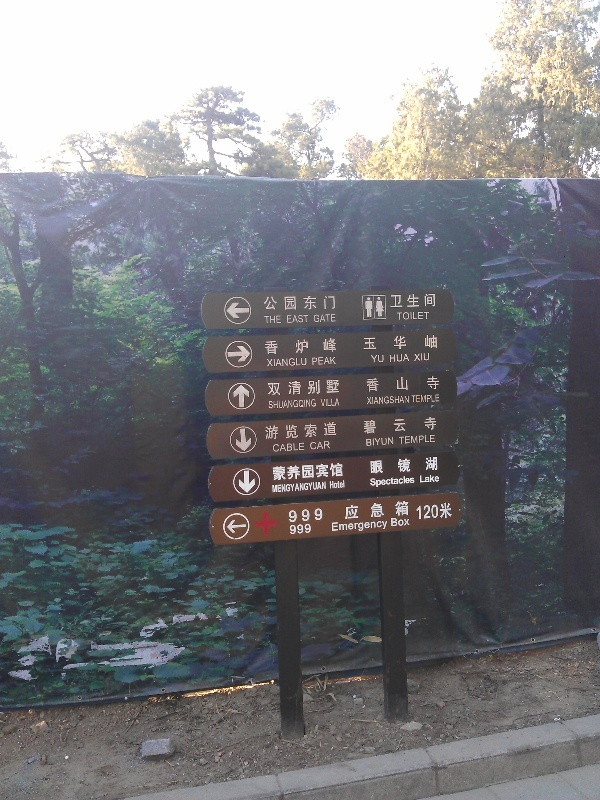text: (353, 500, 368, 521), (369, 500, 384, 521), (385, 500, 400, 521), (417, 501, 432, 522), (433, 501, 448, 522), (369, 416, 384, 436), (385, 416, 400, 436), (401, 416, 416, 436), (417, 416, 432, 436), (273, 462, 288, 482), (289, 462, 304, 482), (305, 462, 320, 482), (321, 462, 336, 482), (369, 456, 384, 476), (385, 456, 400, 476), (401, 456, 416, 476), (417, 456, 432, 476), (369, 375, 384, 394), (385, 375, 400, 394), (401, 375, 416, 394), (417, 375, 432, 394), (369, 334, 384, 352), (385, 334, 400, 352), (401, 334, 416, 352), (417, 334, 432, 352), (273, 379, 288, 397), (289, 379, 304, 397), (305, 379, 320, 397), (321, 379, 336, 397), (273, 422, 288, 440), (289, 422, 304, 440), (305, 422, 320, 440), (321, 422, 336, 440), (273, 295, 288, 312), (289, 295, 304, 312), (305, 295, 320, 312), (321, 295, 336, 312), (401, 292, 416, 309), (417, 292, 432, 309), (273, 339, 288, 356), (289, 339, 304, 356), (305, 339, 320, 356), (321, 339, 336, 356), (289, 508, 304, 524), (305, 508, 320, 524), (337, 518, 352, 534), (353, 518, 368, 534), (369, 518, 384, 534), (341, 500, 352, 521), (401, 500, 411, 521), (273, 480, 288, 494), (289, 480, 304, 494), (305, 480, 320, 494), (385, 475, 400, 489), (401, 475, 416, 489), (289, 523, 304, 537), (370, 475, 384, 489), (321, 356, 337, 367), (273, 399, 288, 410), (289, 399, 304, 410), (369, 395, 384, 406), (385, 395, 400, 406), (273, 442, 288, 453), (289, 442, 304, 453), (401, 434, 416, 445), (417, 434, 432, 445), (391, 292, 400, 309), (433, 375, 441, 394), (273, 358, 288, 368), (289, 358, 304, 368), (369, 437, 384, 447), (449, 501, 456, 522), (264, 422, 272, 440), (321, 314, 337, 323), (337, 462, 344, 482), (433, 456, 440, 476), (264, 295, 272, 312), (401, 312, 416, 321), (289, 315, 304, 324), (305, 399, 317, 410), (371, 354, 384, 364), (417, 353, 431, 362), (362, 416, 368, 436), (321, 399, 336, 407), (417, 395, 432, 403), (265, 339, 272, 356), (417, 312, 430, 321), (305, 523, 313, 537), (321, 441, 332, 451), (389, 353, 400, 363), (390, 517, 400, 528), (401, 517, 411, 528), (362, 334, 368, 352), (433, 334, 439, 352), (420, 475, 432, 484), (433, 416, 438, 436), (273, 315, 283, 325), (310, 441, 320, 451), (385, 437, 395, 447), (401, 395, 410, 406), (267, 379, 272, 397), (401, 353, 410, 363), (312, 356, 320, 367), (321, 480, 327, 494), (337, 480, 346, 489), (264, 315, 272, 325), (331, 518, 336, 534), (337, 379, 341, 397), (433, 475, 441, 484), (433, 292, 437, 309), (385, 518, 389, 534), (433, 395, 441, 403), (329, 480, 336, 489), (314, 314, 320, 323), (267, 358, 272, 368), (321, 508, 324, 524), (305, 315, 310, 324), (433, 434, 437, 445), (411, 395, 416, 403), (366, 375, 368, 394), (396, 312, 400, 321), (269, 399, 272, 410), (337, 399, 341, 407), (305, 358, 308, 368), (398, 434, 400, 445), (366, 437, 368, 447), (337, 422, 338, 440), (414, 353, 416, 362), (337, 339, 338, 356), (287, 508, 288, 524), (367, 395, 368, 406), (305, 442, 306, 453), (385, 354, 386, 364), (287, 315, 288, 324)
